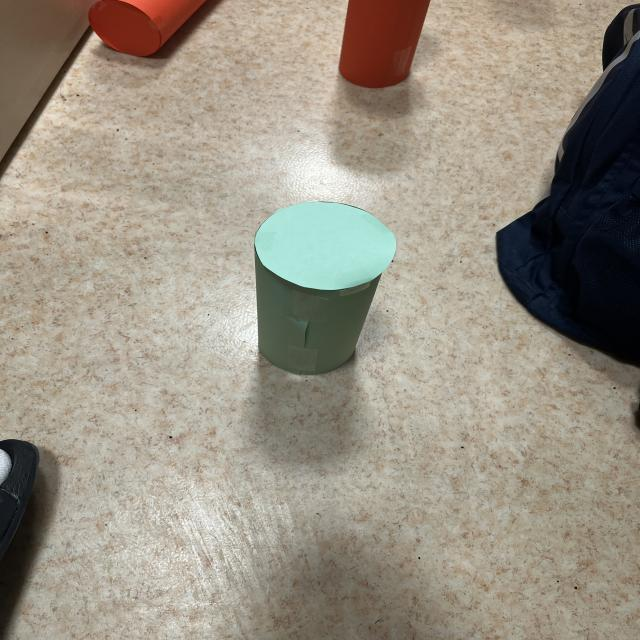meta: (254, 202, 395, 374)
przeszkoda: (339, 0, 430, 88), (88, 0, 205, 56)
